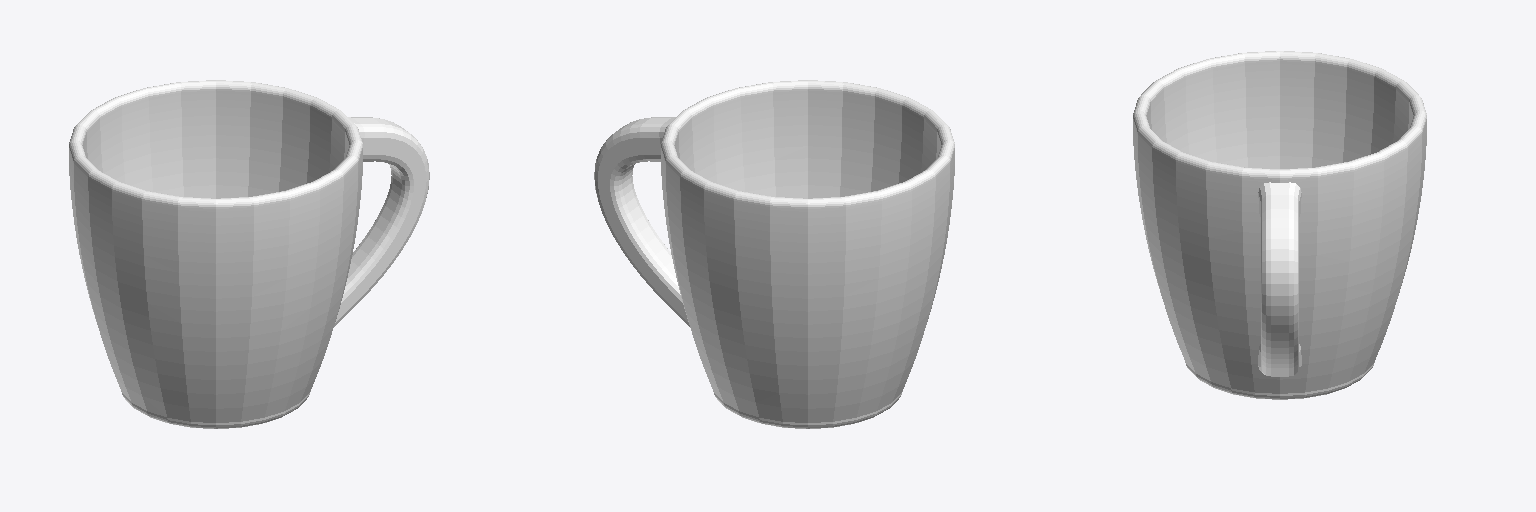
Rendered from cup.obj.
3 renders of one model, left to right at view 1: azimuth 30°, elevation 25°; view 2: azimuth 150°, elevation 25°; view 3: azimuth 270°, elevation 25°, orthographic.
Parts seen in each view (by area): view 1: SM_Cup; view 2: SM_Cup; view 3: SM_Cup.
Boxes of the visible parts, x1=… form: SM_Cup: x1=69, y1=80, x2=429, y2=428; SM_Cup: x1=594, y1=80, x2=954, y2=428; SM_Cup: x1=1133, y1=51, x2=1426, y2=399.
Bounding box in the file's own units: 0.1266 × 0.0907 × 0.0964.